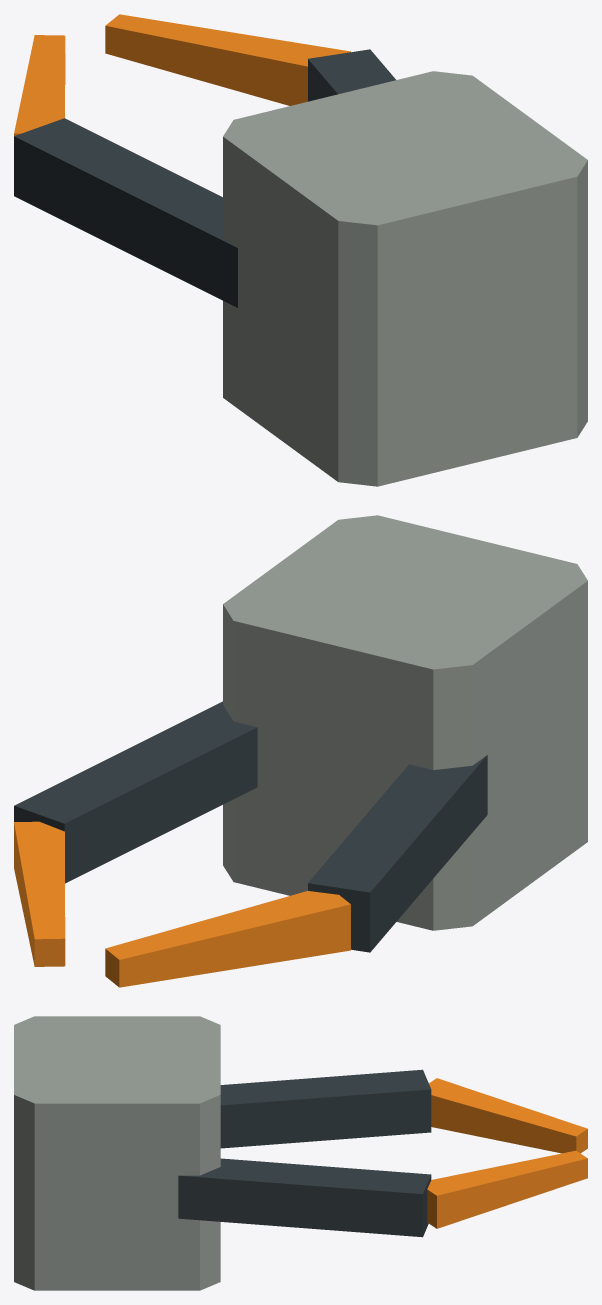
3 renders of one model, top to bottom at view 1: azimuth 30°, elevation 25°; view 2: azimuth 150°, elevation 25°; view 3: azimuth 270°, elevation 25°, orthographic. The views are drawn at different scales.
Visible parts, largest first — view 1: mount; view 2: mount; view 3: mount.
Boxes of the visible parts, x1=… form: mount: x1=14, y1=14, x2=587, y2=486; mount: x1=14, y1=515, x2=587, y2=987; mount: x1=14, y1=1016, x2=587, y2=1290.
Bounding box in the file's own units: 5.7 × 4 × 11.11.
